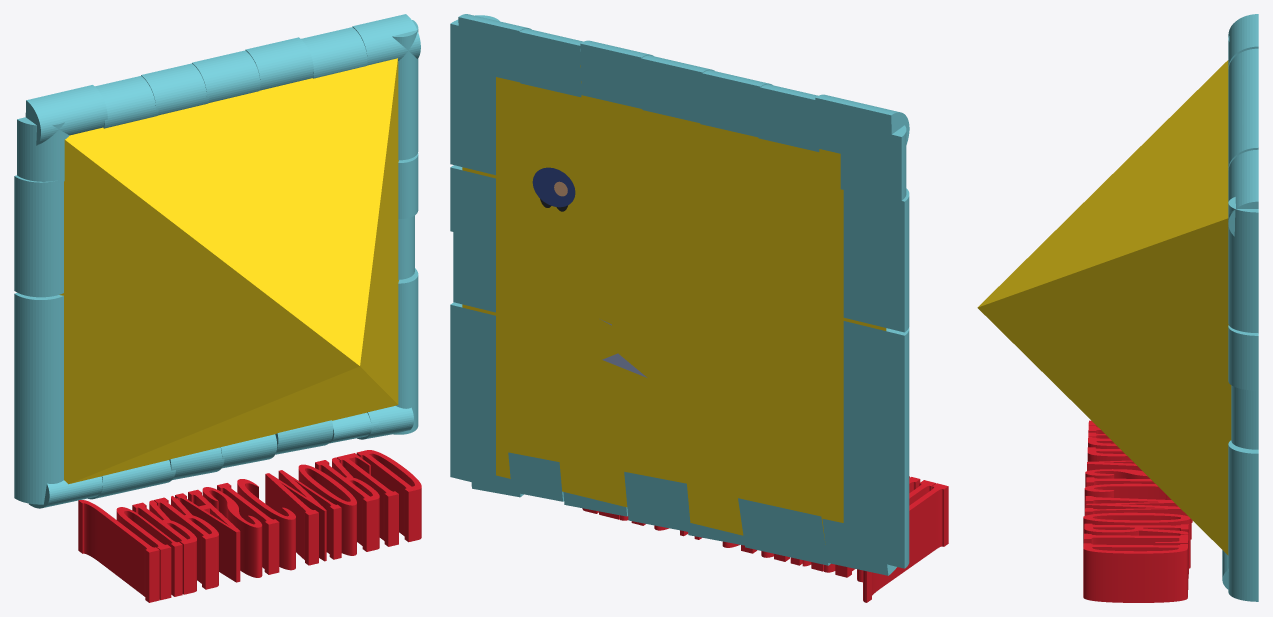
The model's file is tinker.obj.
The picture shows the model from 3 angles, left to right: view 1: azimuth 30°, elevation 25°; view 2: azimuth 150°, elevation 25°; view 3: azimuth 270°, elevation 25°; orthographic projection. The views are drawn at different scales.
Parts seen in each view (by area): view 1: group_0_16768282, group_0_7720667, group_0_15277357; view 2: group_0_16768282, group_0_7720667, group_0_15277357, group_0_3888547; view 3: group_0_16768282, group_0_7720667, group_0_15277357.
Boxes of the visible parts, x1=… form: group_0_16768282: x1=59, y1=58, x2=398, y2=484; group_0_7720667: x1=14, y1=14, x2=420, y2=508; group_0_15277357: x1=78, y1=450, x2=421, y2=602; group_0_16768282: x1=462, y1=65, x2=886, y2=544; group_0_7720667: x1=450, y1=14, x2=909, y2=575; group_0_15277357: x1=582, y1=476, x2=948, y2=602; group_0_3888547: x1=532, y1=167, x2=575, y2=207; group_0_16768282: x1=977, y1=60, x2=1231, y2=555; group_0_7720667: x1=1222, y1=14, x2=1258, y2=601; group_0_15277357: x1=1083, y1=420, x2=1192, y2=602.
Bounding box in the file's own units: 149 × 160 × 93.
